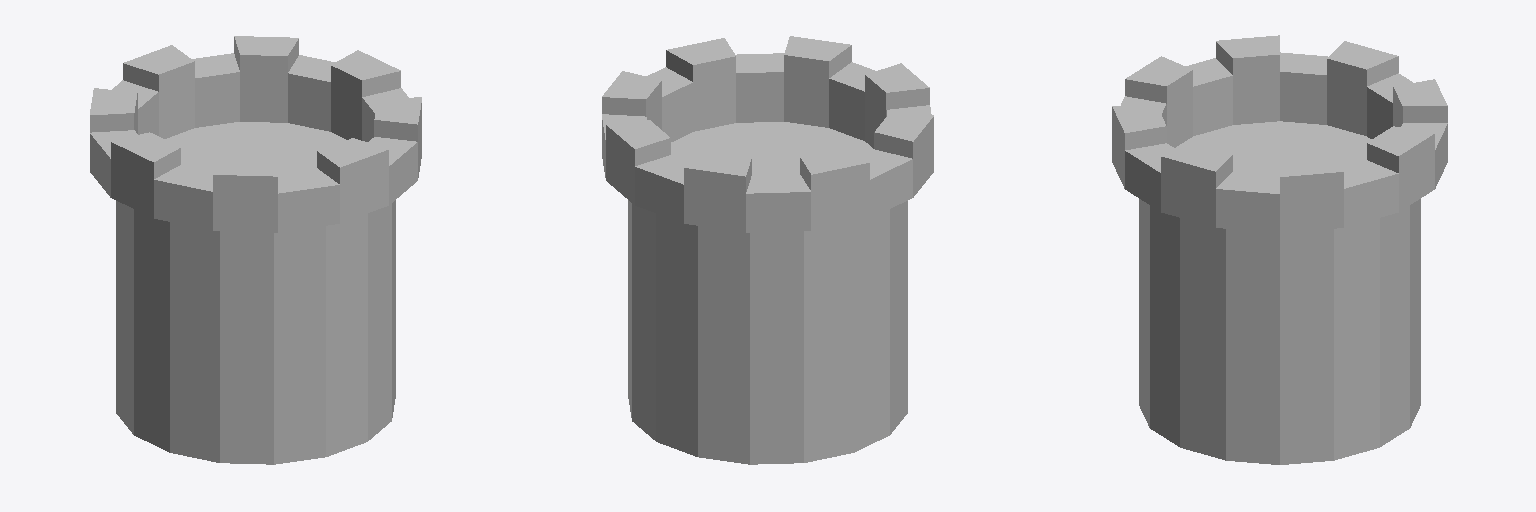
Rendered from Pillar.obj.
3 views of the same model, side by side, from view 1: azimuth 30°, elevation 25°; view 2: azimuth 150°, elevation 25°; view 3: azimuth 270°, elevation 25° (orthographic).
Parts seen in each view (by area): view 1: pCylinder1 Mesh; view 2: pCylinder1 Mesh; view 3: pCylinder1 Mesh.
Boxes of the visible parts, x1,y1,x2,y2 form: pCylinder1 Mesh: [90, 36, 421, 464]; pCylinder1 Mesh: [602, 36, 933, 464]; pCylinder1 Mesh: [1112, 35, 1447, 464].
Size of the model in its own units: 1.03 by 1.02 by 1.03.